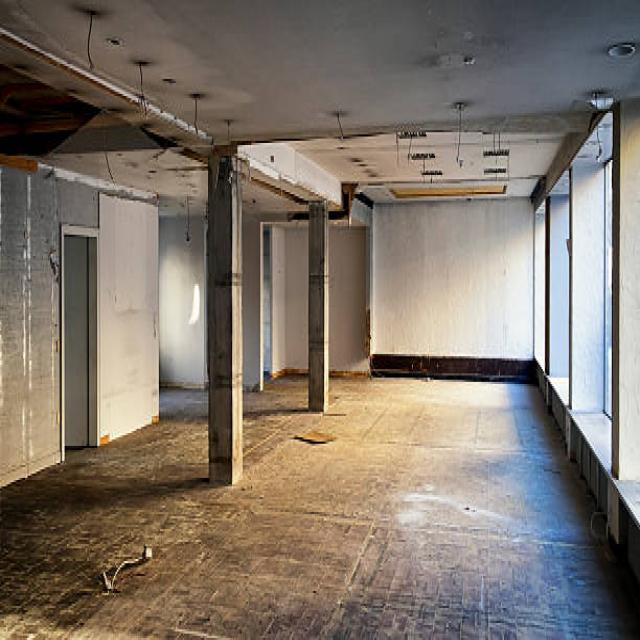floor: (0, 371, 640, 640)
wall: (0, 166, 99, 487), (370, 199, 535, 381), (98, 190, 159, 447), (572, 159, 605, 413), (619, 98, 640, 480), (159, 216, 204, 389), (209, 149, 232, 486), (328, 228, 370, 378), (284, 228, 309, 377), (549, 193, 569, 379), (308, 200, 324, 412), (232, 182, 243, 486), (242, 221, 260, 392), (612, 102, 620, 480), (272, 226, 285, 380), (324, 200, 329, 412), (569, 163, 573, 410), (545, 193, 550, 379), (260, 222, 264, 391)
